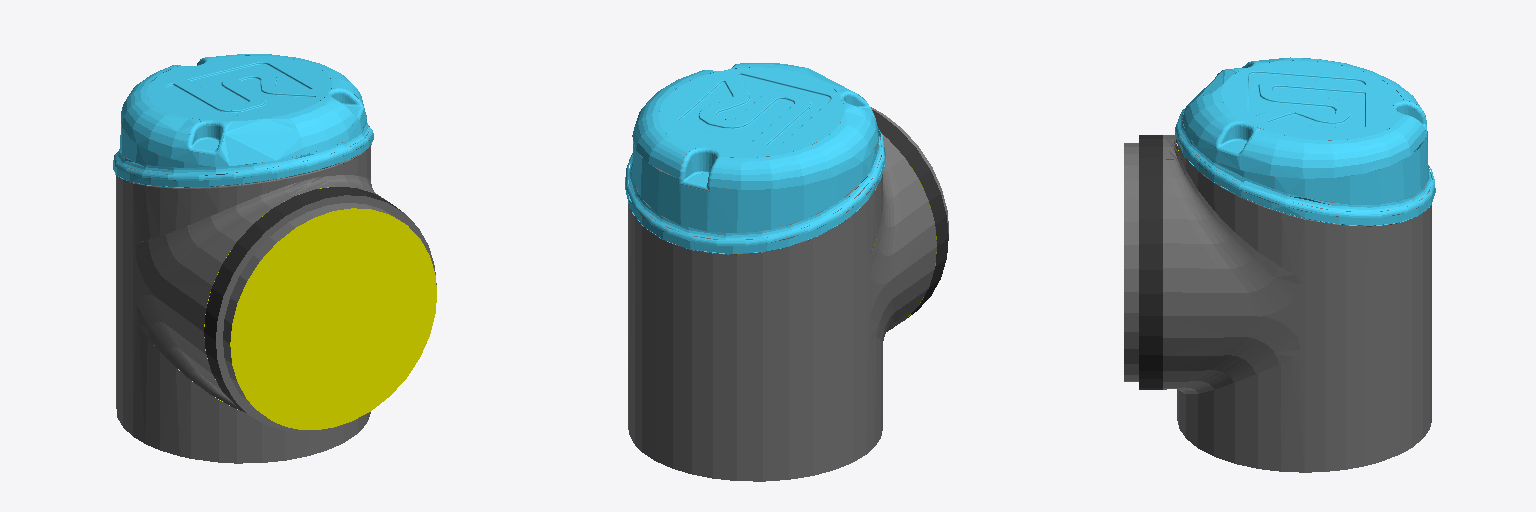
File: WRIST1_m.obj
3 views of the same model, side by side, from view 1: azimuth 30°, elevation 25°; view 2: azimuth 150°, elevation 25°; view 3: azimuth 270°, elevation 25° (orthographic).
Bounding box in the file's own units: 0.0644 × 0.0887 × 0.0768.